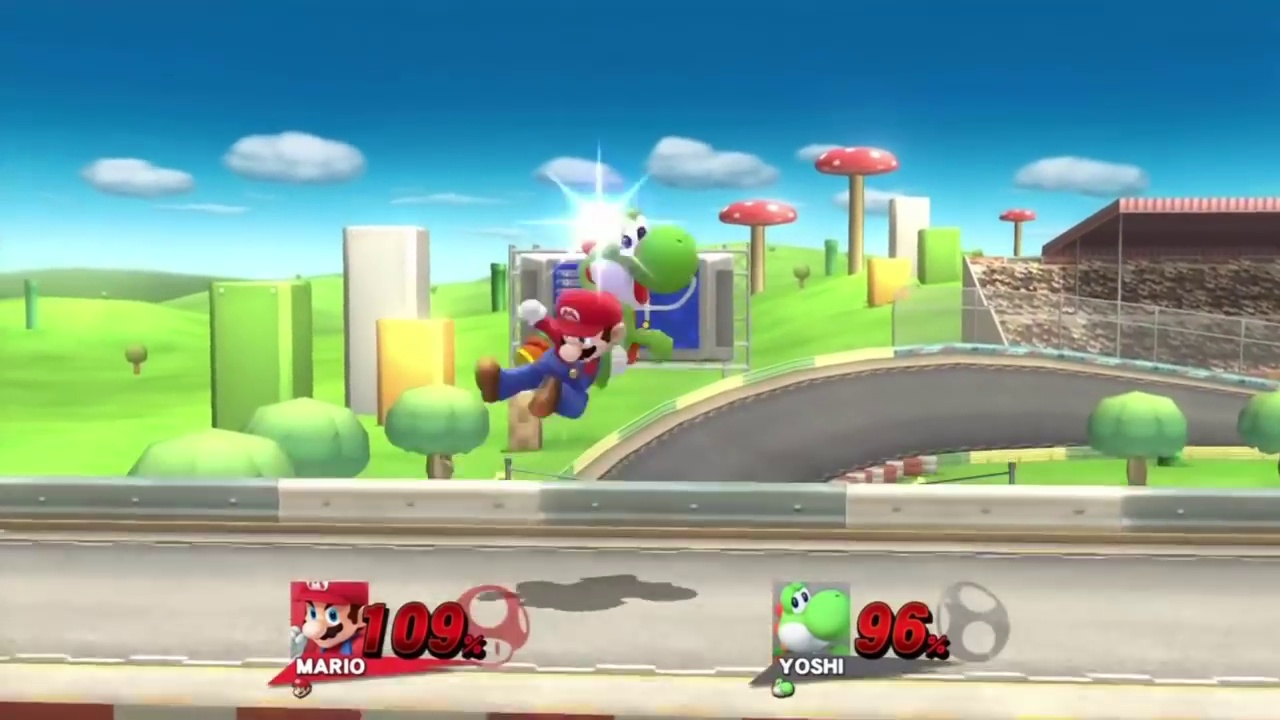Mario: (476, 293, 629, 419)
